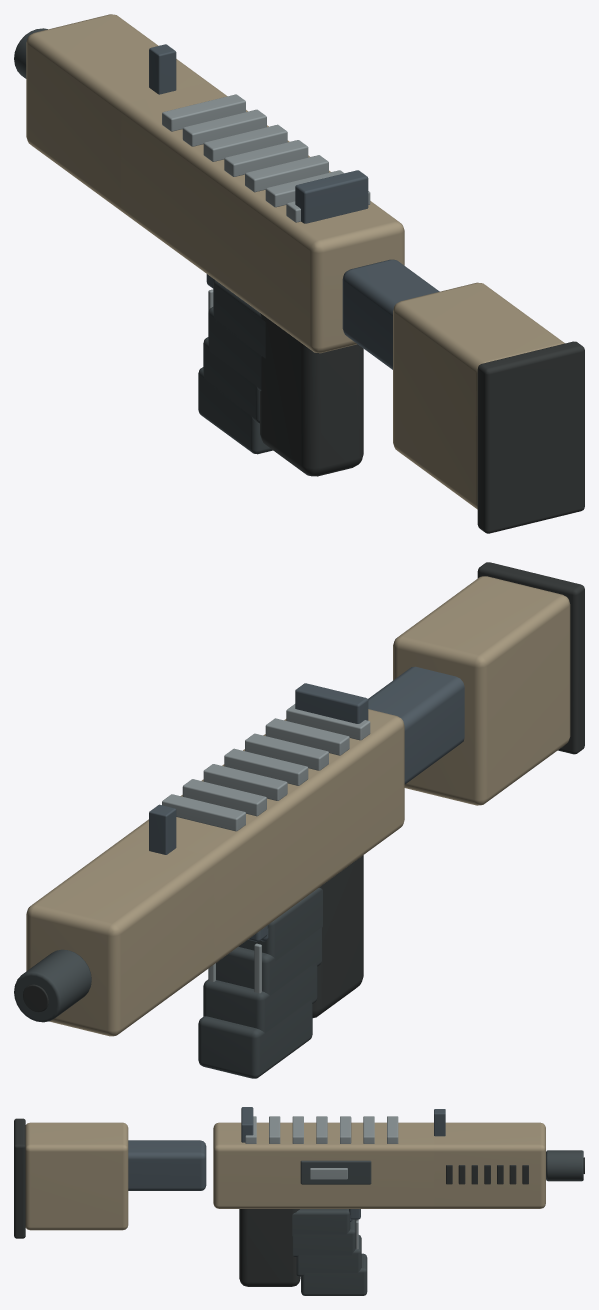
Rendered from weapon-1.glb.
The picture shows the model from 3 angles, top to bottom: view 1: azimuth 30°, elevation 25°; view 2: azimuth 150°, elevation 25°; view 3: azimuth 270°, elevation 25°; orthographic projection. The views are drawn at different scales.
Visible parts, largest first — view 1: Receiver, Adjustable stock, Shoulder pad, Handguard, Trigger grip, Stock spine, Rear sight, Magazine section.003, Magazine section, Magazine section.002, Magazine section.001, Rail tooth.005 (+6 smaller); view 2: Adjustable stock, Handguard, Receiver, Stock spine, Trigger grip, Magazine section.003, Magazine section.002, Shoulder pad, Muzzle brake, Magazine section.001, Magazine section, Rear sight (+8 smaller); view 3: Receiver, Adjustable stock, Handguard, Trigger grip, Stock spine, Magazine section.003, Magazine section, Magazine section.001, Shoulder pad, Ejection port, Magazine section.002, Muzzle brake (+9 smaller).
Boxes of the visible parts, left/top/right/bottom form: Receiver: left=121, top=83, right=404, bottom=353; Adjustable stock: left=393, top=282, right=564, bottom=509; Shoulder pad: left=477, top=341, right=584, bottom=533; Handguard: left=26, top=14, right=209, bottom=212; Trigger grip: left=260, top=313, right=363, bottom=476; Stock spine: left=342, top=259, right=439, bottom=369; Rear sight: left=295, top=170, right=368, bottom=223; Magazine section.003: left=198, top=367, right=272, bottom=454; Magazine section: left=213, top=279, right=265, bottom=358; Magazine section.002: left=203, top=337, right=259, bottom=423; Magazine section.001: left=208, top=307, right=261, bottom=390; Rail tooth.005: left=182, top=109, right=266, bottom=146; Adjustable stock: left=393, top=576, right=570, bottom=805; Handguard: left=26, top=836, right=214, bottom=1036; Receiver: left=126, top=709, right=404, bottom=965; Stock spine: left=368, top=666, right=464, bottom=784; Trigger grip: left=312, top=855, right=363, bottom=1017; Magazine section.003: left=198, top=999, right=312, bottom=1078; Magazine section.002: left=203, top=963, right=317, bottom=1033; Shoulder pad: left=477, top=562, right=584, bottom=754; Muzzle brake: left=14, top=949, right=91, bottom=1022; Magazine section.001: left=216, top=928, right=321, bottom=995; Magazine section: left=238, top=888, right=322, bottom=960; Rear sight: left=295, top=683, right=368, bottom=723; Receiver: left=213, top=1122, right=434, bottom=1208; Adjustable stock: left=25, top=1122, right=128, bottom=1230; Handguard: left=433, top=1122, right=545, bottom=1208; Trigger grip: left=239, top=1209, right=300, bottom=1286; Stock spine: left=128, top=1140, right=206, bottom=1190; Magazine section.003: left=301, top=1253, right=367, bottom=1295; Magazine section: left=292, top=1209, right=350, bottom=1236; Magazine section.001: left=293, top=1219, right=355, bottom=1256; Shoulder pad: left=14, top=1118, right=25, bottom=1238; Ejection port: left=300, top=1160, right=371, bottom=1184; Magazine section.002: left=296, top=1235, right=361, bottom=1276; Muzzle brake: left=546, top=1150, right=583, bottom=1181.
Size of the model in its own units: 0.146 by 0.415 by 1.21.
